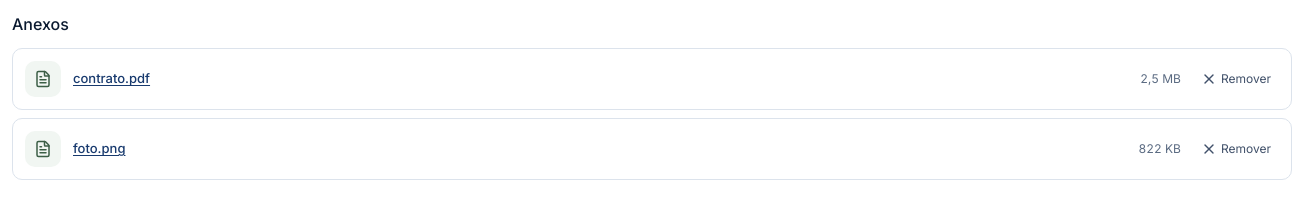
Test case: EvidenceList › lists names, sizes and download links, and removes a row
Expected: the link "contrato.pdf" is shown, x1=73 y1=70 x2=150 y2=86
Expected: the text "2,5 MB" is shown, x1=1140 y1=71 x2=1181 y2=87
Click the button with aria-label "Remover contrato.pdf": [1236, 79] box x1=1193 y1=63 x2=1279 y2=95
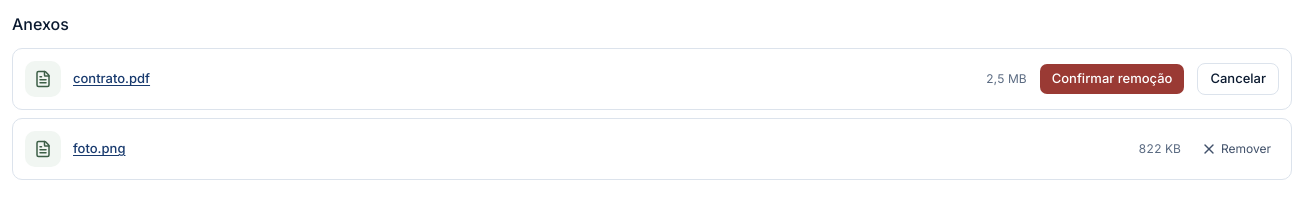
Click the button "Confirmar remoção": [1112, 79] box x1=1039 y1=63 x2=1186 y2=95
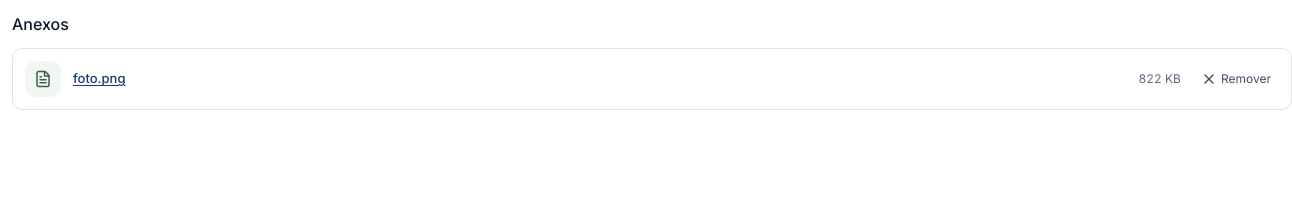
Expected: the link "foto.png" is shown, x1=73 y1=70 x2=126 y2=86
Now the link "contrato.pdf" is gone
